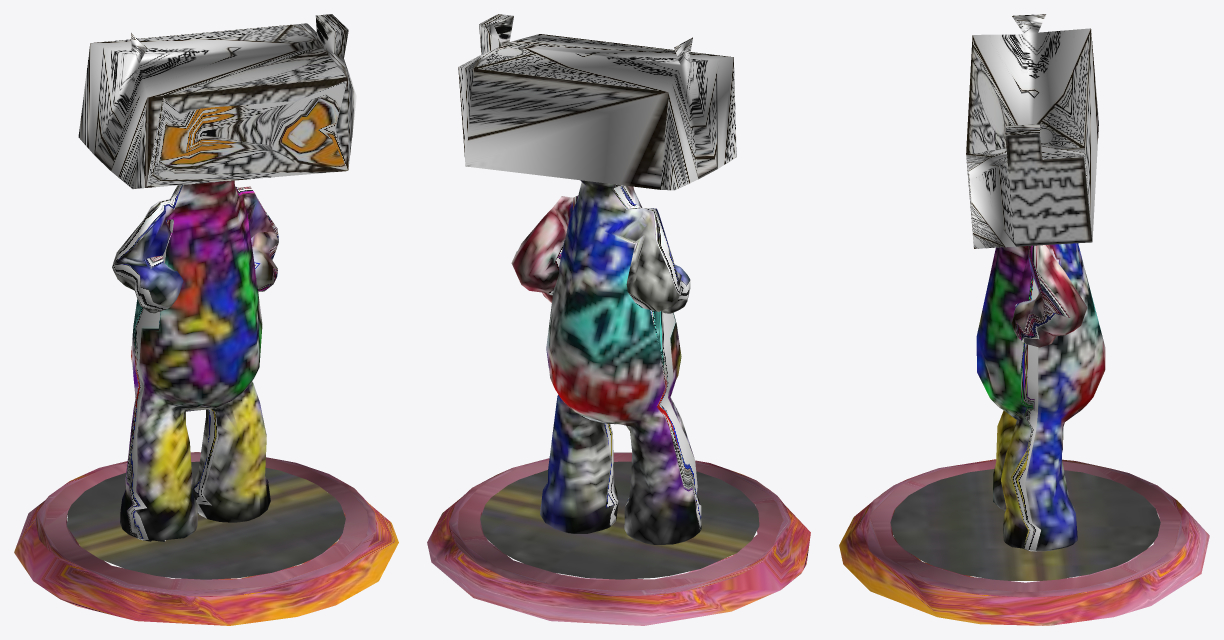
The picture shows the model from 3 angles, left to right: view 1: azimuth 30°, elevation 25°; view 2: azimuth 150°, elevation 25°; view 3: azimuth 270°, elevation 25°; orthographic projection. The views are drawn at different scales.
Size of the model in its own units: 1.44 by 2.16 by 1.44.
Materials: 4 (4 with a texture image).
